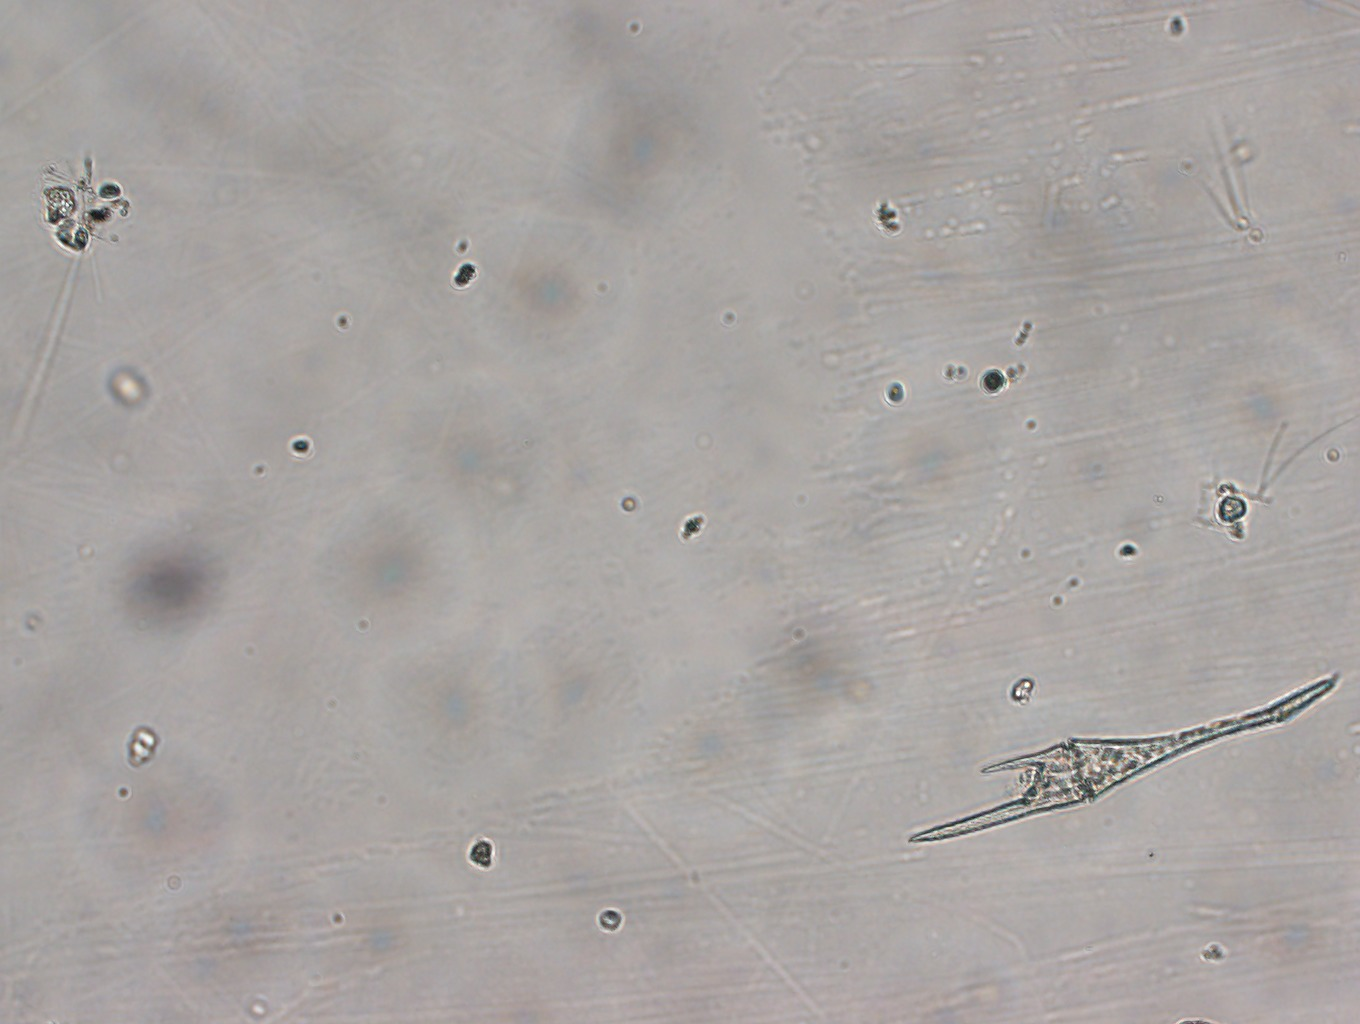ceratium furca: (896, 667, 1338, 851)
